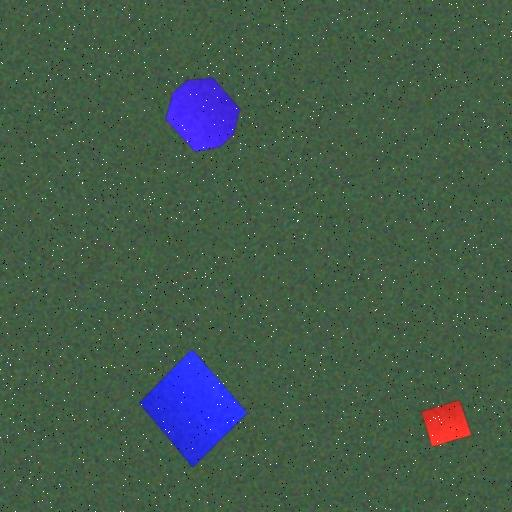BLUE_SQUARE: (138, 348, 248, 469)
RED_SQUARE: (421, 399, 472, 447)
